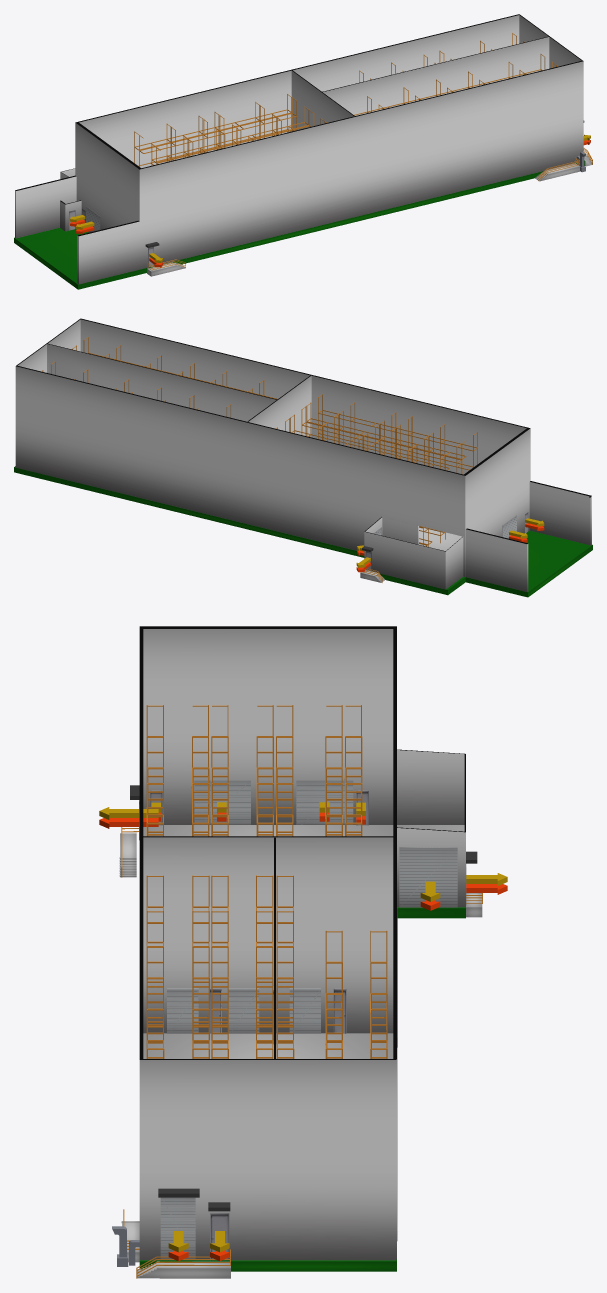
File: soulbrain_T9-2-1F.glb
3 renders of one model, top to bottom at view 1: azimuth 30°, elevation 25°; view 2: azimuth 150°, elevation 25°; view 3: azimuth 270°, elevation 25°, orthographic. The views are drawn at different scales.
Parts seen in each view (by area): view 1: Box985, Line010, T9-2-1F, StraightStair002; view 2: Box985, Line010, T9-2-1F, Rectangle001; view 3: Box985, T9-2-1F, Box993, Rectangle001, StraightStair002, Line010, Box926, Box968.
Boxes of the visible parts, left/top/right/bottom form: Box985: left=15, top=14, right=583, bottom=284; Line010: left=14, top=160, right=585, bottom=289; T9-2-1F: left=134, top=33, right=557, bottom=166; StraightStair002: left=147, top=148, right=592, bottom=276; Box985: left=15, top=318, right=591, bottom=591; Line010: left=14, top=466, right=592, bottom=597; T9-2-1F: left=41, top=337, right=477, bottom=546; Rectangle001: left=419, top=527, right=462, bottom=550; Box985: left=139, top=626, right=465, bottom=1260; T9-2-1F: left=146, top=705, right=387, bottom=1058; Box993: left=160, top=780, right=457, bottom=1260; Rectangle001: left=143, top=825, right=464, bottom=1058; StraightStair002: left=119, top=827, right=482, bottom=1278; Line010: left=139, top=907, right=465, bottom=1271; Box926: left=139, top=790, right=466, bottom=1260; Box968: left=130, top=785, right=477, bottom=1211.
Size of the model in its own units: 86.72 by 16.71 by 29.34.
Materials: 11 (7 with a texture image).
